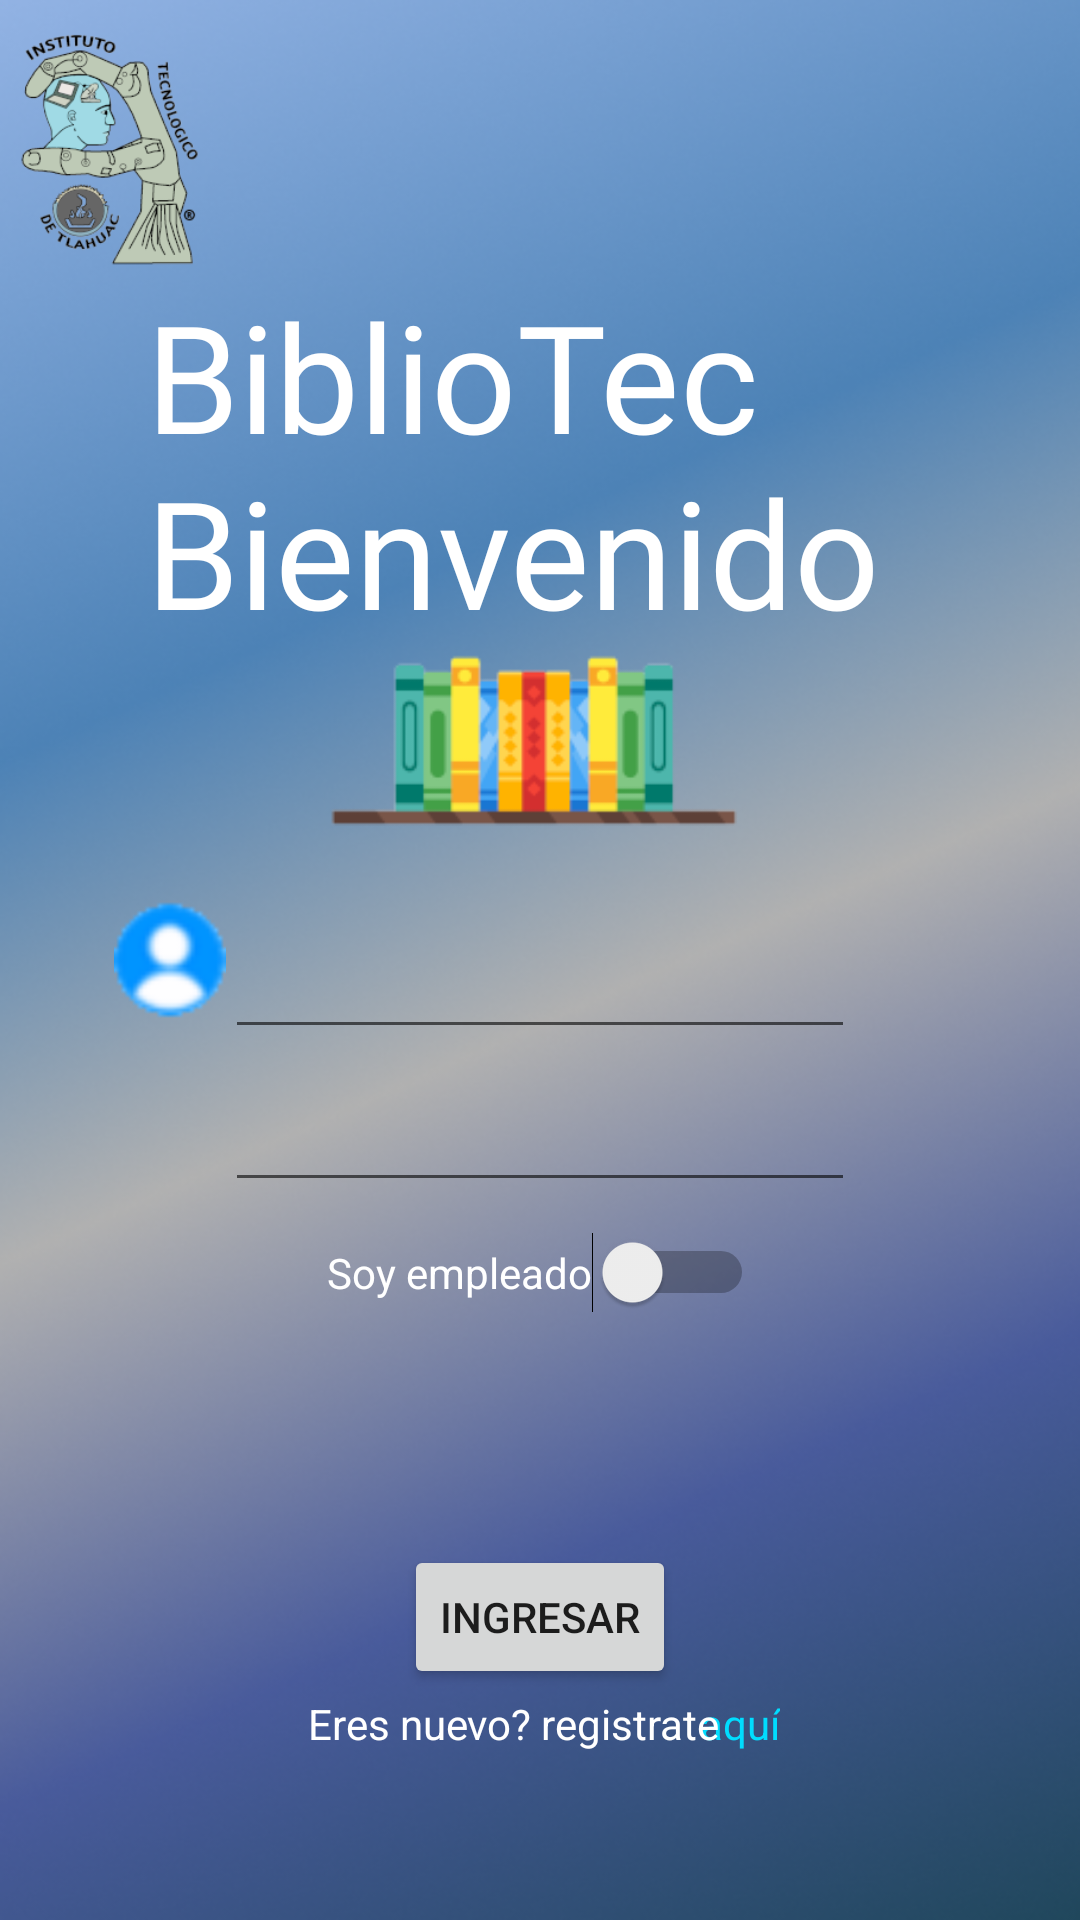

Screen size 1080*1920. Icon name, then its box in pixels as region(x1, y1, x2, y2):
username: region(114, 903, 226, 1017)
